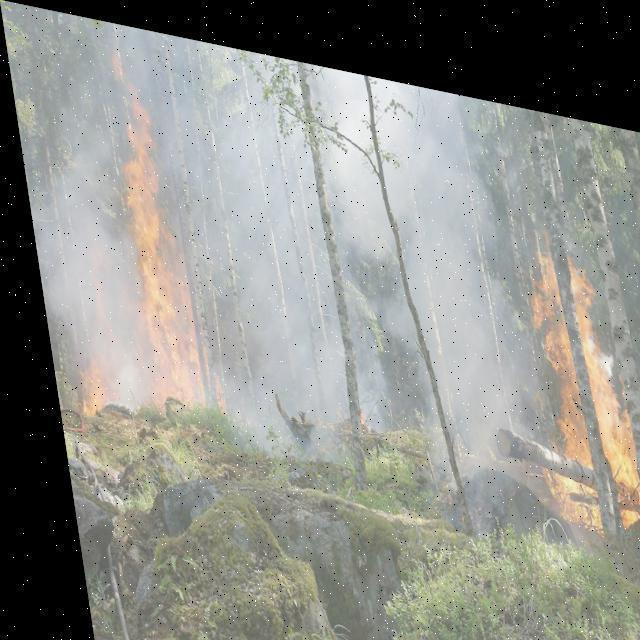Fire: (15, 18, 232, 449), (496, 185, 639, 538)
